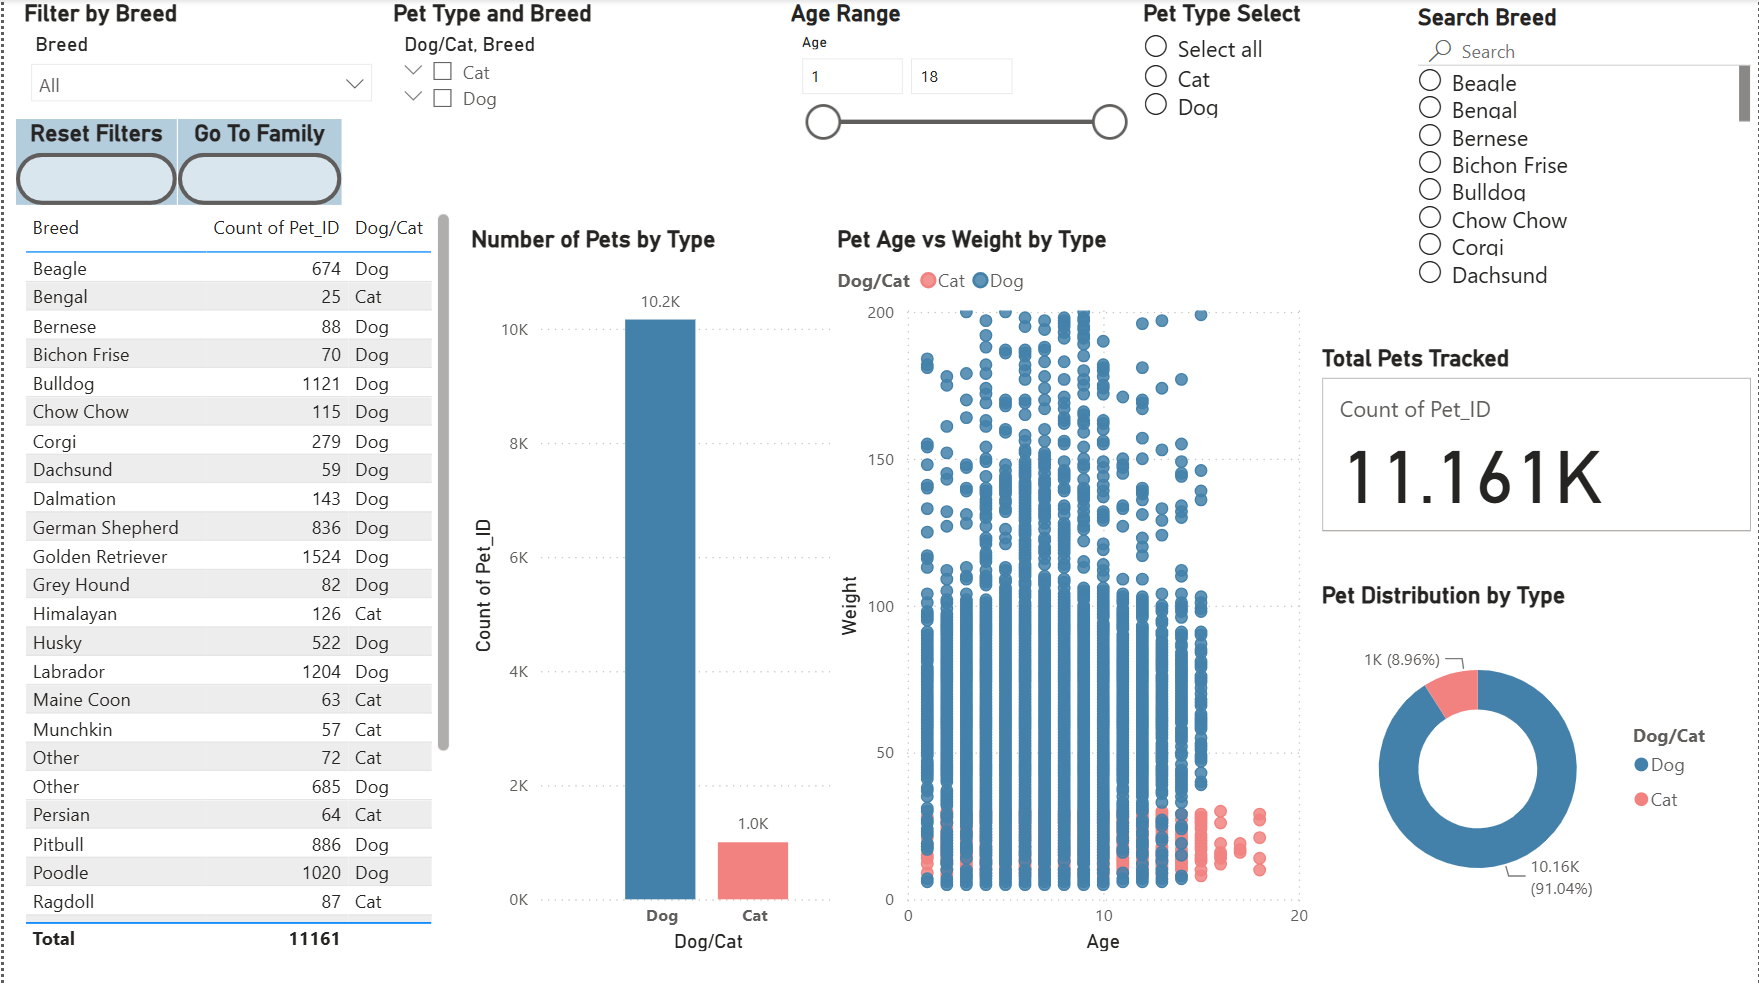

This screenshot's page, from the dashboard's own definition file:
{"tool":"powerbi","page":{"name":"Pets","canvas":[1280,720],"ordinal":1},"visuals":[{"type":"cardVisual","title":"Total Pets Tracked","fields":{"Data":["CountNonNull(Pet_Data.Pet_ID)"]},"box":[956.4,251.3,323.1,142.2],"z":0},{"type":"clusteredColumnChart","title":"Number of Pets by Type","fields":{"Category":["Pet_Data.Dog/Cat"],"Y":["CountNonNull(Pet_Data.Pet_ID)"]},"box":[336,165.1,304.4,534.2],"z":1000},{"type":"donutChart","title":"Pet Distribution by Type","fields":{"Category":["Pet_Data.Dog/Cat"],"Y":["CountNonNull(Pet_Data.Pet_ID)"]},"box":[956.4,425.1,308.8,254.2],"z":2000},{"type":"tableEx","fields":{"Values":["Pet_Data.Breed","CountNonNull(Pet_Data.Pet_ID)","Pet_Data.Dog/Cat"]},"box":[10.1,150.8,320.2,548.6],"z":3000},{"type":"scatterChart","title":"Pet Age vs Weight by Type","fields":{"X":["Pet_Data.Age"],"Series":["Pet_Data.Dog/Cat"],"Y":["Pet_Data.Weight"]},"box":[603.1,165.1,353.3,534.2],"z":4000},{"type":"slicer","title":"Age Range","fields":{"Values":["Pet_Data.Age"]},"box":[568.7,0,258.5,150.8],"z":5000},{"type":"slicer","title":"Pet Type and Breed","fields":{"Values":["Pet_Data.Dog/Cat","Pet_Data.Breed"]},"box":[278.6,0,255.6,150.8],"z":6000},{"type":"listSlicer","title":"Pet Type Select","fields":{"Values":["Pet_Data.Dog/Cat"]},"box":[825.7,0,320.2,202.5],"z":7000},{"type":"listSlicer","title":"Search Breed","fields":{"Values":["Pet_Data.Breed"]},"box":[1026.8,2.9,252.7,215.4],"z":8000},{"type":"slicer","title":"Filter by Breed","fields":{"Values":["Pet_Data.Breed"]},"box":[10.1,0,268.5,150.8],"z":9000},{"type":"actionButton","title":"Reset Filters","box":[9.2,88,117.4,62.3],"z":10000},{"type":"actionButton","title":"Go To Family","box":[126.5,88,119.2,62.3],"z":11000}]}

Visuals, with their boxes in screenshot pixels (x1, y1, x2, y2), scaled from the page's 1280x720 canvas onto the 1759x984 screenshot:
"Total Pets Tracked" cardVisual: <region>1314, 343, 1758, 538</region>
"Number of Pets by Type" clusteredColumnChart: <region>462, 226, 880, 956</region>
"Pet Distribution by Type" donutChart: <region>1314, 581, 1739, 928</region>
tableEx - Pet_Data.Breed x CountNonNull(Pet_Data.Pet_ID): <region>14, 206, 454, 956</region>
"Pet Age vs Weight by Type" scatterChart: <region>829, 226, 1314, 956</region>
"Age Range" slicer: <region>782, 0, 1137, 206</region>
"Pet Type and Breed" slicer: <region>383, 0, 734, 206</region>
"Pet Type Select" listSlicer: <region>1135, 0, 1575, 277</region>
"Search Breed" listSlicer: <region>1411, 4, 1758, 298</region>
"Filter by Breed" slicer: <region>14, 0, 383, 206</region>
"Reset Filters" actionButton: <region>13, 120, 174, 205</region>
"Go To Family" actionButton: <region>174, 120, 338, 205</region>
